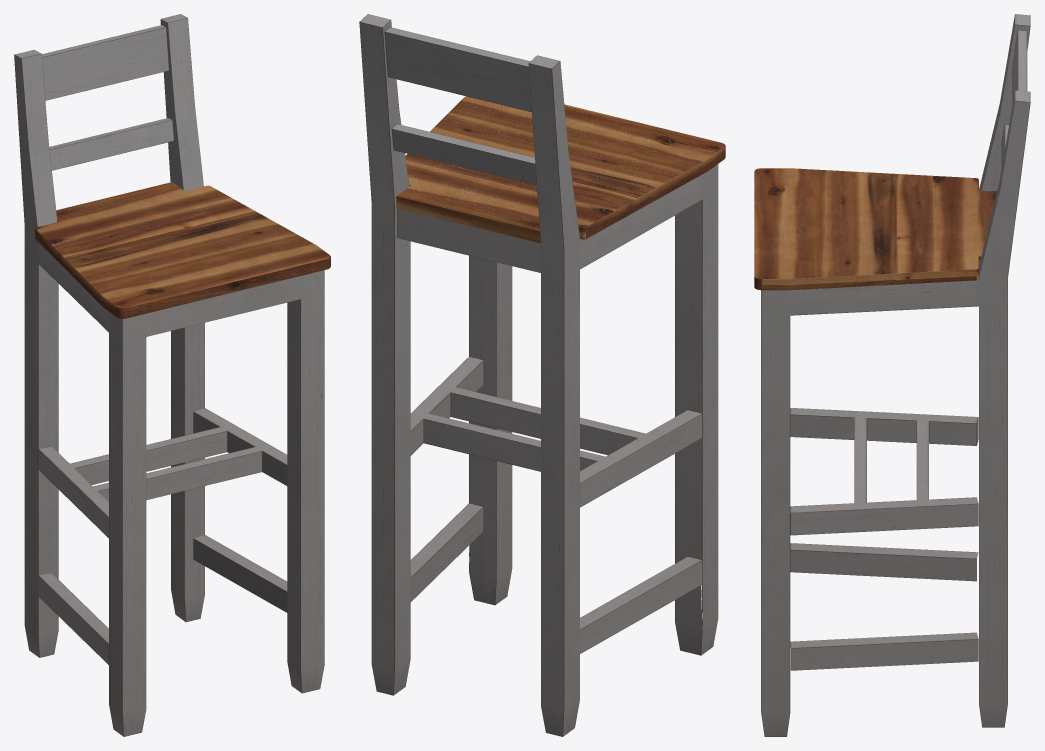
The model's file is example56.glb.
3 views of the same model, side by side, from view 1: azimuth 30°, elevation 25°; view 2: azimuth 150°, elevation 25°; view 3: azimuth 270°, elevation 25° (orthographic). The views are drawn at different scales.
Parts seen in each view (by area): view 1: HSH1.paint, HSH1.top; view 2: HSH1.paint, HSH1.top; view 3: HSH1.paint, HSH1.top.
Boxes of the visible parts, bbox=[...] form: HSH1.paint: bbox=[14, 14, 324, 736]; HSH1.top: bbox=[35, 182, 330, 318]; HSH1.paint: bbox=[359, 14, 718, 736]; HSH1.top: bbox=[396, 96, 725, 243]; HSH1.paint: bbox=[761, 14, 1030, 736]; HSH1.top: bbox=[754, 168, 996, 290].
Bounding box in the file's own units: 0.52 × 1.37 × 0.5476.
Materials: 2 (2 with a texture image).
